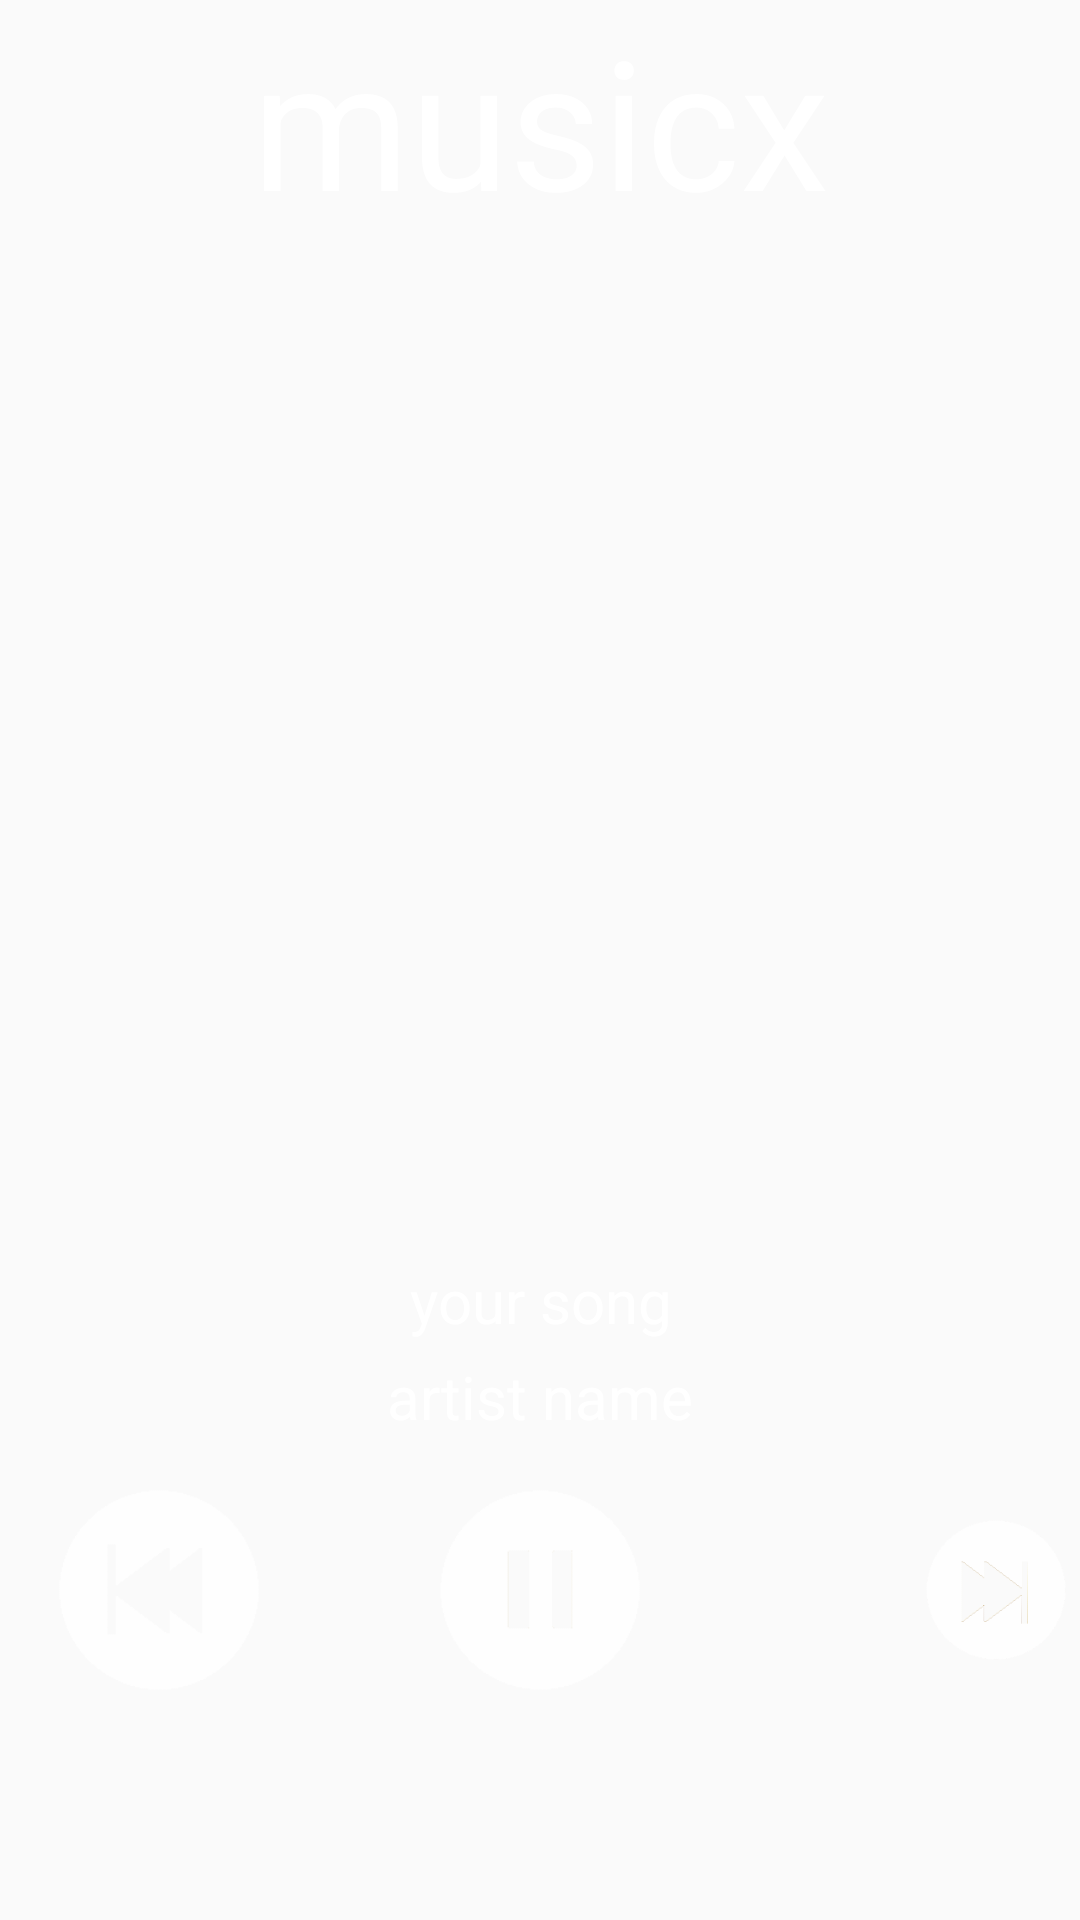

Screen size 1080px x 1920px. Icon name, then its center in pixels as [x,y]:
next unpressed: [995,1592]
